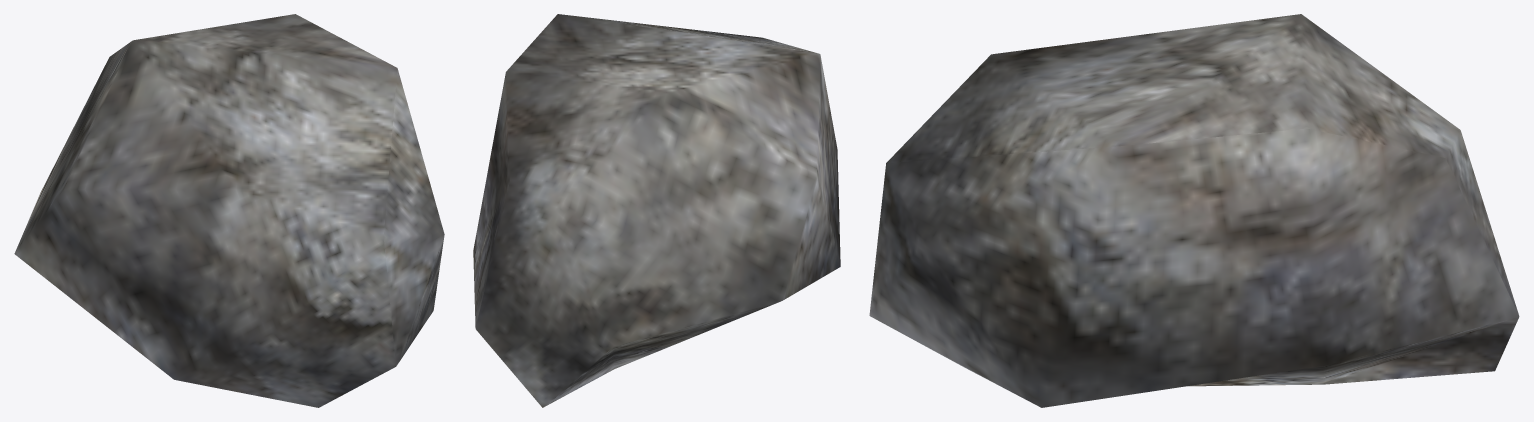
File: Rock_02.fbx
3 views of the same model, side by side, from view 1: azimuth 30°, elevation 25°; view 2: azimuth 150°, elevation 25°; view 3: azimuth 270°, elevation 25° (orthographic). The views are drawn at different scales.
Parts seen in each view (by area): view 1: Rock_02; view 2: Rock_02; view 3: Rock_02.
Part boxes in pixels (x1=…): Rock_02: x1=14, y1=14, x2=444, y2=407; Rock_02: x1=473, y1=14, x2=840, y2=407; Rock_02: x1=869, y1=14, x2=1519, y2=407.
Bounding box in the file's own units: 106 × 94.16 × 161.
